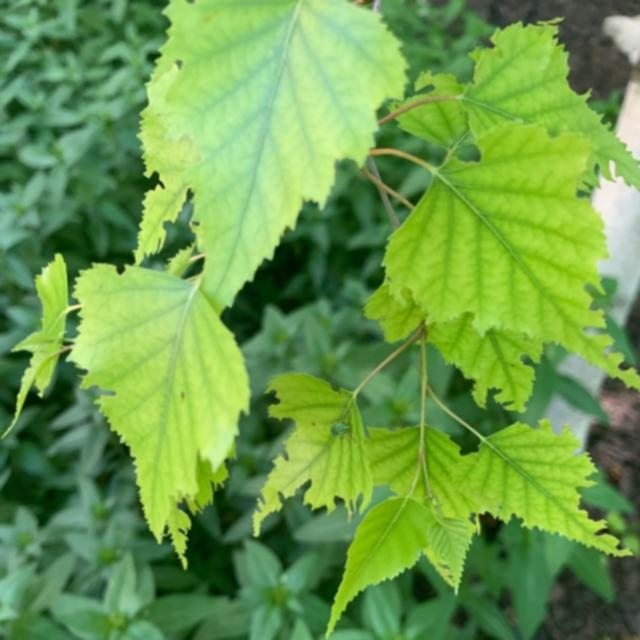Chlorosis: (26, 15, 593, 589)
